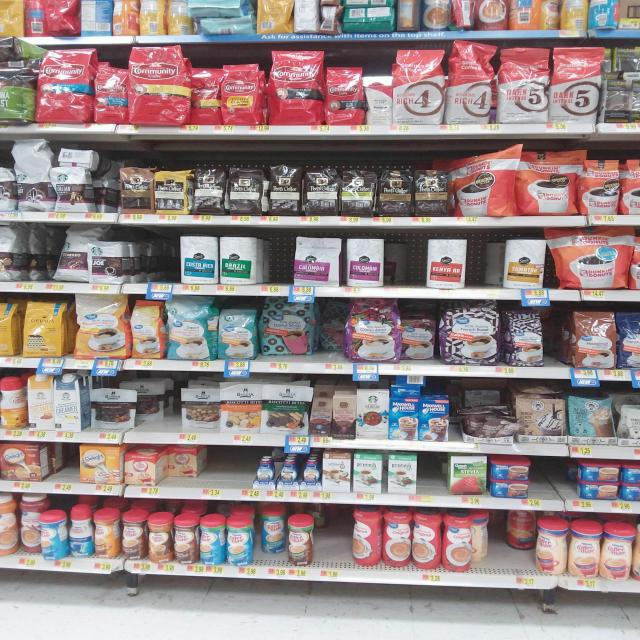empty_space: (319, 507, 351, 557), (208, 448, 246, 485), (393, 239, 423, 285), (263, 236, 291, 280), (147, 243, 177, 281), (538, 467, 574, 498), (479, 244, 497, 288), (501, 544, 527, 569), (53, 453, 75, 481), (427, 459, 445, 489)
